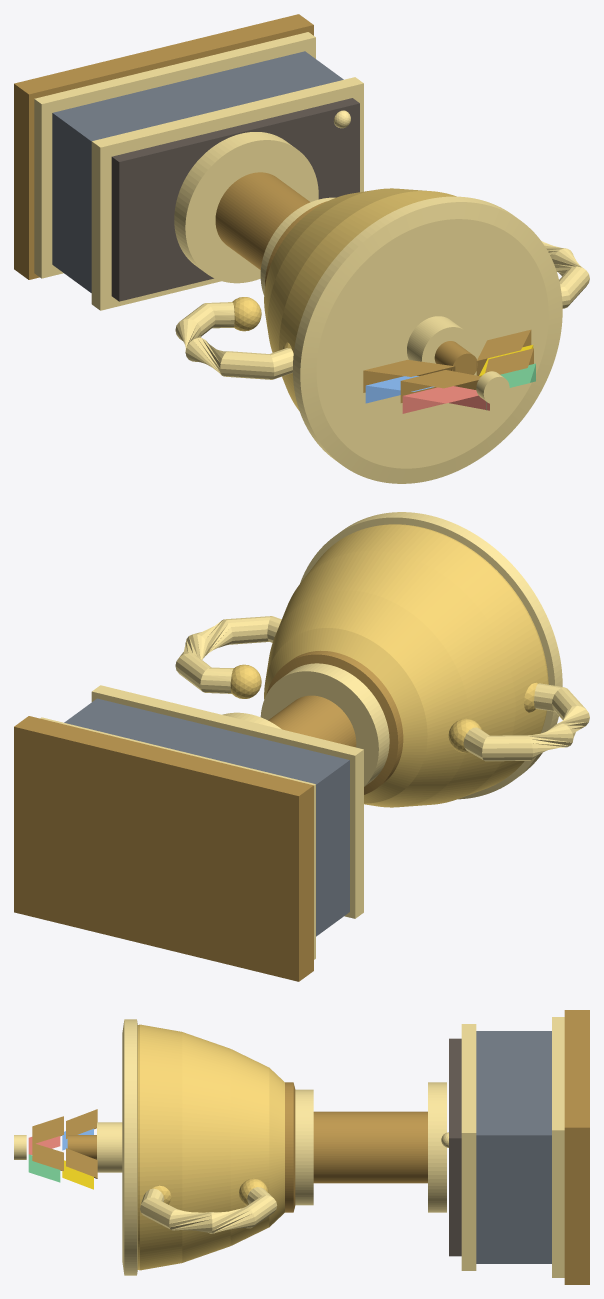
The model's file is gdg_labyrinth_trophy.glb.
The picture shows the model from 3 angles, top to bottom: view 1: azimuth 30°, elevation 25°; view 2: azimuth 150°, elevation 25°; view 3: azimuth 270°, elevation 25°; orthographic projection. The views are drawn at different scales.
Visible parts, largest first — view 1: Thick rolled cup rim, Pedestal dark inset, Pedestal main block, Base foot lower, Stem lower collar, Pedestal upper molding, Trophy cup bowl, Base foot gold trim, Stem shaft, Left trophy handle, Peak socket, GDG red chevron (+10 smaller); view 2: Base foot lower, Trophy cup bowl, Pedestal main block, Pedestal upper molding, Stem upper collar, Thick rolled cup rim, Left trophy handle, Right trophy handle, Cup lower ring, Stem shaft, Base foot gold trim, Right handle lower boss (+1 smaller); view 3: Trophy cup bowl, Pedestal main block, Stem shaft, Base foot lower, Thick rolled cup rim, Pedestal upper molding, Base foot gold trim, Right trophy handle, Pedestal dark inset, Stem lower collar, Stem upper collar, Cup lower ring (+8 smaller).
Part boxes in pixels (<box>): Thick rolled cup rim: <box>293,196,562,483</box>; Pedestal dark inset: <box>111,98,359,301</box>; Pedestal main block: <box>52,51,343,292</box>; Base foot lower: <box>14,14,313,279</box>; Stem lower collar: <box>174,132,318,283</box>; Pedestal upper molding: <box>91,77,363,310</box>; Trophy cup bowl: <box>264,188,456,410</box>; Base foot gold trim: <box>34,32,315,278</box>; Stem shaft: <box>215,172,310,269</box>; Left trophy handle: <box>175,302,293,379</box>; Peak socket: <box>407,316,473,363</box>; GDG red chevron: <box>402,386,489,413</box>; Base foot lower: <box>14,716,313,981</box>; Trophy cup bowl: <box>264,524,548,807</box>; Pedestal main block: <box>64,698,349,936</box>; Pedestal upper molding: <box>91,685,363,918</box>; Stem upper collar: <box>260,663,389,786</box>; Thick rolled cup rim: <box>300,512,562,799</box>; Left trophy handle: <box>463,683,589,761</box>; Right trophy handle: <box>175,616,281,693</box>; Cup lower ring: <box>267,650,403,794</box>; Stem shaft: <box>268,695,356,747</box>; Base foot gold trim: <box>40,717,315,959</box>; Right handle lower boss: <box>230,664,261,698</box>; Trophy cup bowl: <box>137,1024,284,1270</box>; Pedestal main block: <box>476,1031,551,1263</box>; Stem shaft: <box>313,1111,427,1183</box>; Base foot lower: <box>564,1010,589,1284</box>; Thick rolled cup rim: <box>122,1019,137,1275</box>; Pedestal upper molding: <box>461,1024,476,1270</box>; Base foot gold trim: <box>552,1017,564,1277</box>; Right trophy handle: <box>140,1187,277,1233</box>; Pedestal dark inset: <box>449,1038,461,1256</box>; Stem lower collar: <box>428,1082,446,1212</box>; Stem upper collar: <box>295,1089,313,1205</box>; Cup lower ring: <box>285,1082,295,1212</box>.
Bounding box in the file's own units: 3.61 × 2.44 × 5.48.
